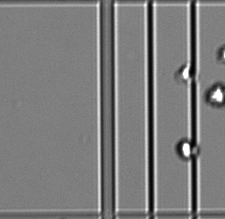Living Cell: (205, 81, 224, 107), (177, 138, 197, 161), (175, 61, 194, 82)
